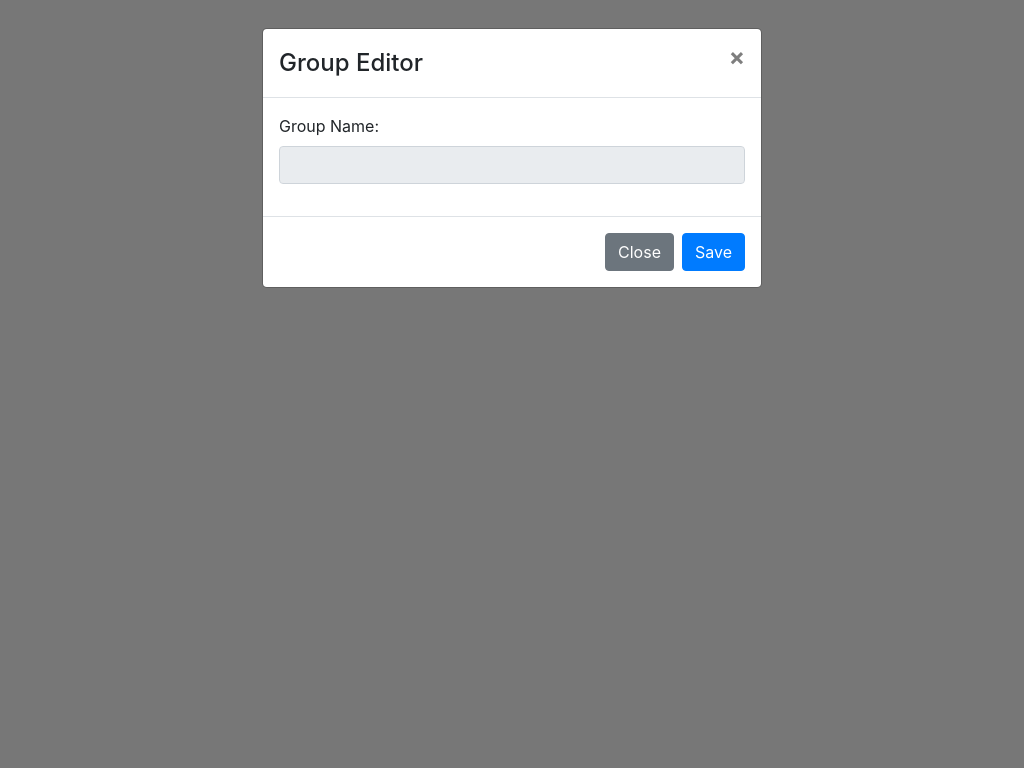
Scenario: <ListDisplay /> › clicking save button disables the button
Step 1. Click the button with id "submitGroupEditor" → (714, 252), box [682, 233, 745, 271]
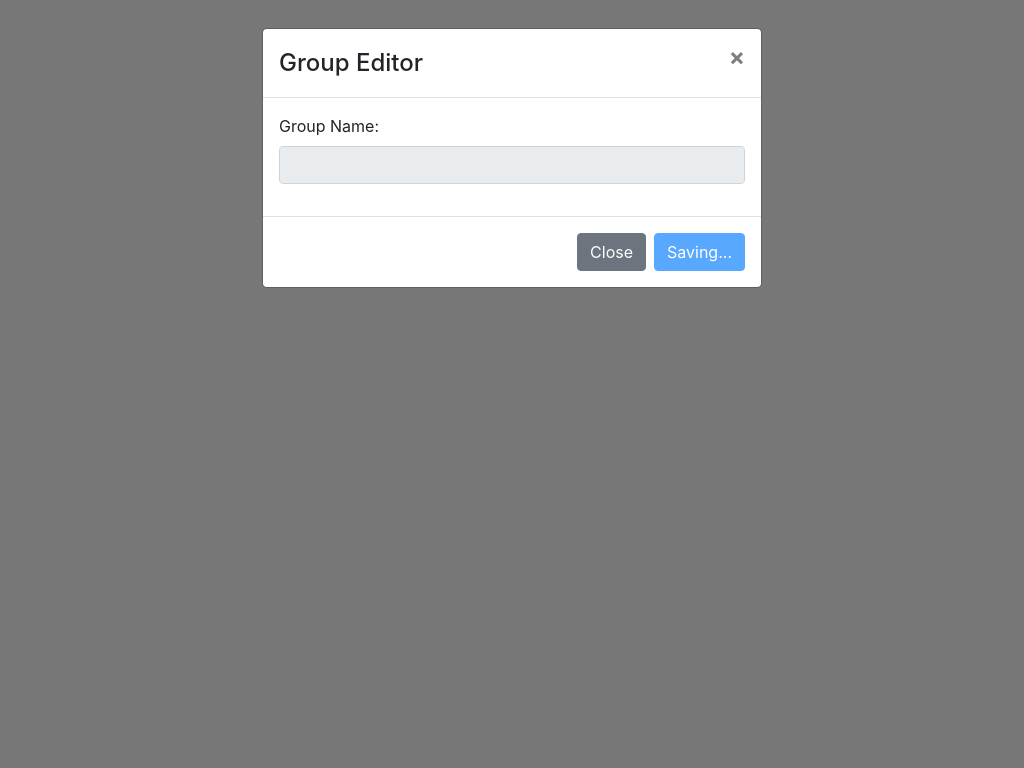
expect the button with id "submitGroupEditor" is disabled: met, box [654, 233, 745, 271]
